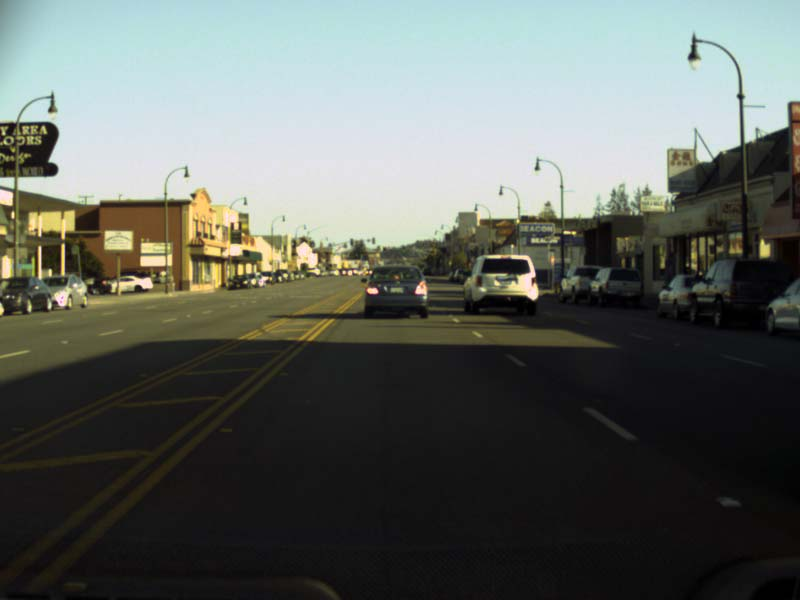Green: (402, 247, 404, 252)
Red: (382, 245, 385, 250)
